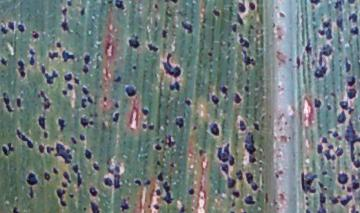tarspot: (345, 119, 360, 168), (213, 141, 236, 166), (53, 141, 74, 166), (39, 63, 59, 89), (161, 51, 180, 78), (299, 170, 318, 196), (15, 127, 34, 151), (317, 16, 334, 42), (317, 43, 335, 67), (239, 47, 256, 69), (338, 99, 357, 115), (244, 130, 256, 155), (37, 90, 51, 111), (3, 91, 14, 115), (162, 181, 173, 205), (55, 186, 67, 207), (60, 6, 69, 33), (237, 31, 251, 48), (16, 58, 26, 81), (127, 33, 141, 49), (323, 144, 335, 162), (179, 20, 194, 34), (173, 115, 186, 131), (313, 67, 330, 79), (318, 188, 326, 213), (61, 49, 75, 63), (118, 197, 131, 212), (336, 171, 349, 186), (209, 122, 221, 138), (335, 109, 347, 125), (27, 46, 36, 67), (124, 84, 138, 97), (25, 171, 38, 185), (57, 117, 67, 135), (339, 194, 354, 206), (165, 134, 176, 150), (343, 55, 352, 74), (37, 114, 47, 131), (304, 38, 314, 55), (328, 193, 341, 206), (46, 50, 60, 62), (244, 193, 256, 207), (244, 171, 256, 185), (88, 200, 100, 213), (332, 1, 345, 13), (146, 42, 160, 53), (79, 115, 88, 132), (237, 117, 247, 132), (168, 80, 181, 91), (103, 176, 114, 189), (226, 176, 236, 190), (75, 172, 83, 189), (236, 12, 245, 27), (293, 53, 302, 68), (114, 1, 126, 12), (80, 84, 91, 96), (348, 25, 360, 36), (83, 148, 93, 161), (61, 170, 71, 183), (312, 96, 322, 109), (1, 143, 9, 159), (336, 16, 344, 32), (233, 92, 242, 106), (220, 162, 229, 176), (209, 93, 220, 104), (30, 29, 41, 40), (348, 12, 359, 23), (346, 88, 357, 99), (140, 106, 150, 118), (63, 71, 73, 83), (346, 75, 356, 87), (112, 110, 120, 124), (88, 185, 98, 196), (220, 84, 229, 96), (82, 52, 91, 64), (7, 20, 16, 32), (348, 204, 360, 213), (27, 185, 34, 200), (248, 1, 256, 14), (235, 169, 243, 182), (252, 119, 260, 132), (237, 2, 247, 12), (81, 64, 90, 75), (41, 130, 50, 141), (91, 161, 100, 172), (78, 6, 87, 17), (248, 154, 257, 165), (230, 22, 238, 34), (115, 174, 121, 190), (1, 55, 8, 68), (183, 97, 192, 107), (42, 172, 52, 181), (153, 143, 163, 152), (16, 23, 25, 33), (211, 8, 221, 17), (69, 135, 78, 145), (231, 189, 241, 198), (335, 147, 344, 157), (198, 147, 207, 157), (153, 202, 162, 212), (351, 181, 360, 191), (320, 168, 330, 177), (78, 132, 86, 143), (144, 178, 152, 189), (1, 25, 8, 37), (316, 142, 323, 154), (263, 190, 269, 204), (250, 183, 259, 192), (106, 166, 115, 175), (45, 145, 55, 153), (160, 29, 168, 39), (51, 166, 59, 176), (133, 177, 141, 187), (307, 1, 323, 6), (324, 104, 334, 112), (7, 140, 14, 151), (80, 97, 87, 108), (157, 171, 164, 182), (12, 205, 21, 213), (54, 40, 62, 49), (178, 204, 186, 213), (113, 100, 121, 109), (320, 135, 328, 144), (114, 165, 122, 174), (68, 191, 76, 200), (38, 144, 45, 154), (163, 1, 179, 5), (73, 77, 81, 85), (86, 96, 94, 104), (331, 131, 339, 139), (113, 75, 122, 82), (72, 164, 79, 173), (65, 83, 74, 90), (206, 50, 213, 59), (242, 85, 249, 94), (148, 124, 155, 132), (65, 1, 73, 8), (187, 188, 195, 195), (154, 188, 161, 196), (318, 180, 325, 188), (16, 97, 20, 110), (60, 181, 67, 188), (303, 195, 310, 202), (277, 169, 284, 176), (82, 206, 89, 213), (61, 88, 67, 96), (345, 1, 357, 5), (170, 161, 176, 169), (103, 95, 109, 103), (337, 135, 343, 143), (346, 185, 352, 193), (131, 64, 138, 70), (141, 123, 147, 130), (155, 159, 161, 166), (305, 201, 311, 208), (153, 3, 159, 10), (340, 185, 347, 191), (304, 208, 312, 213), (274, 173, 280, 179), (192, 124, 197, 131), (326, 129, 332, 134)
